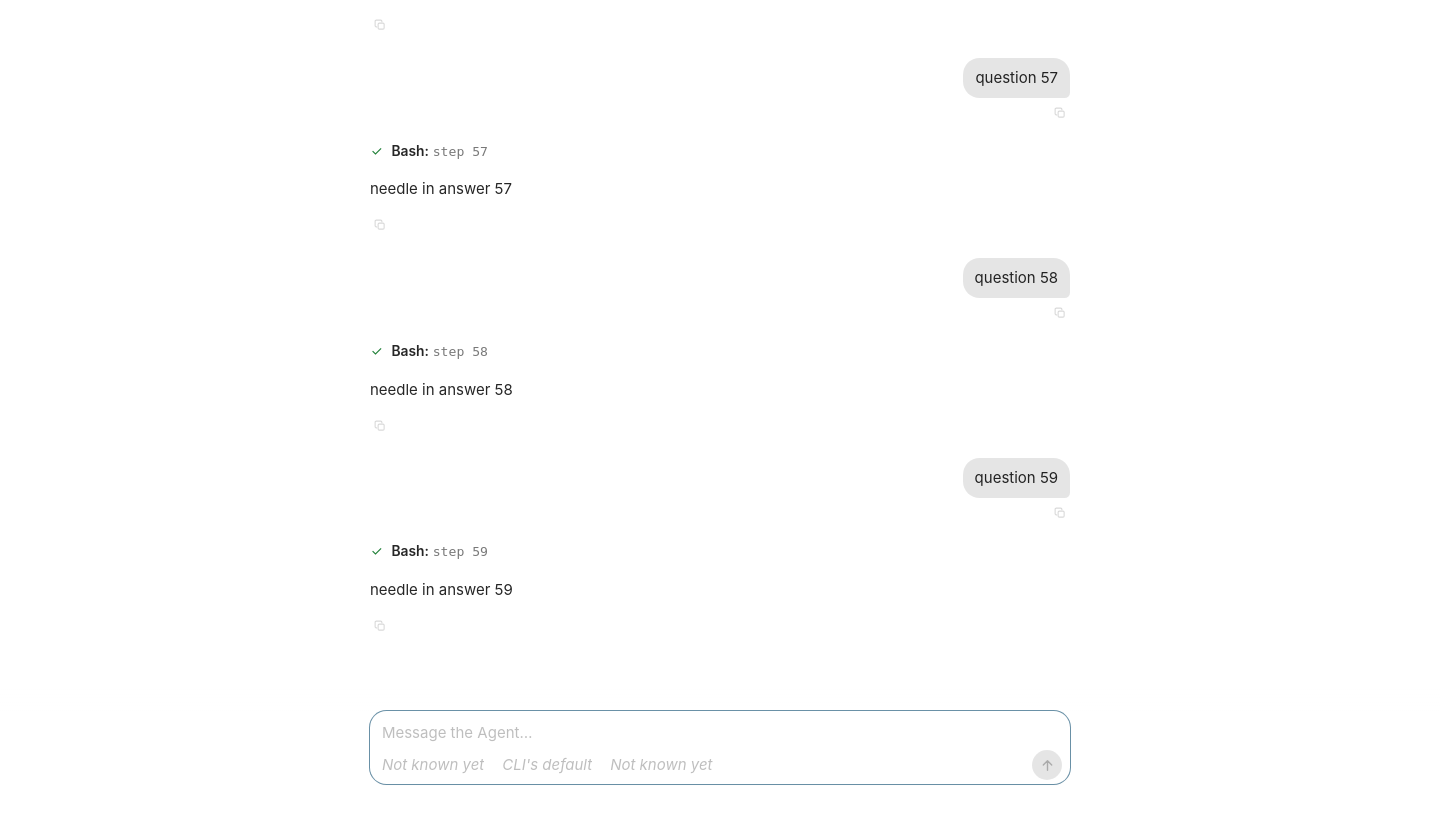
a long transcript, drawn in chunks › finds words in every chunk
The width and height of the screenshot is (1440, 822).
(page scrolled)
Press f in the text box labelled "Message the Agent…", box left=382, top=719, right=1062, bottom=746
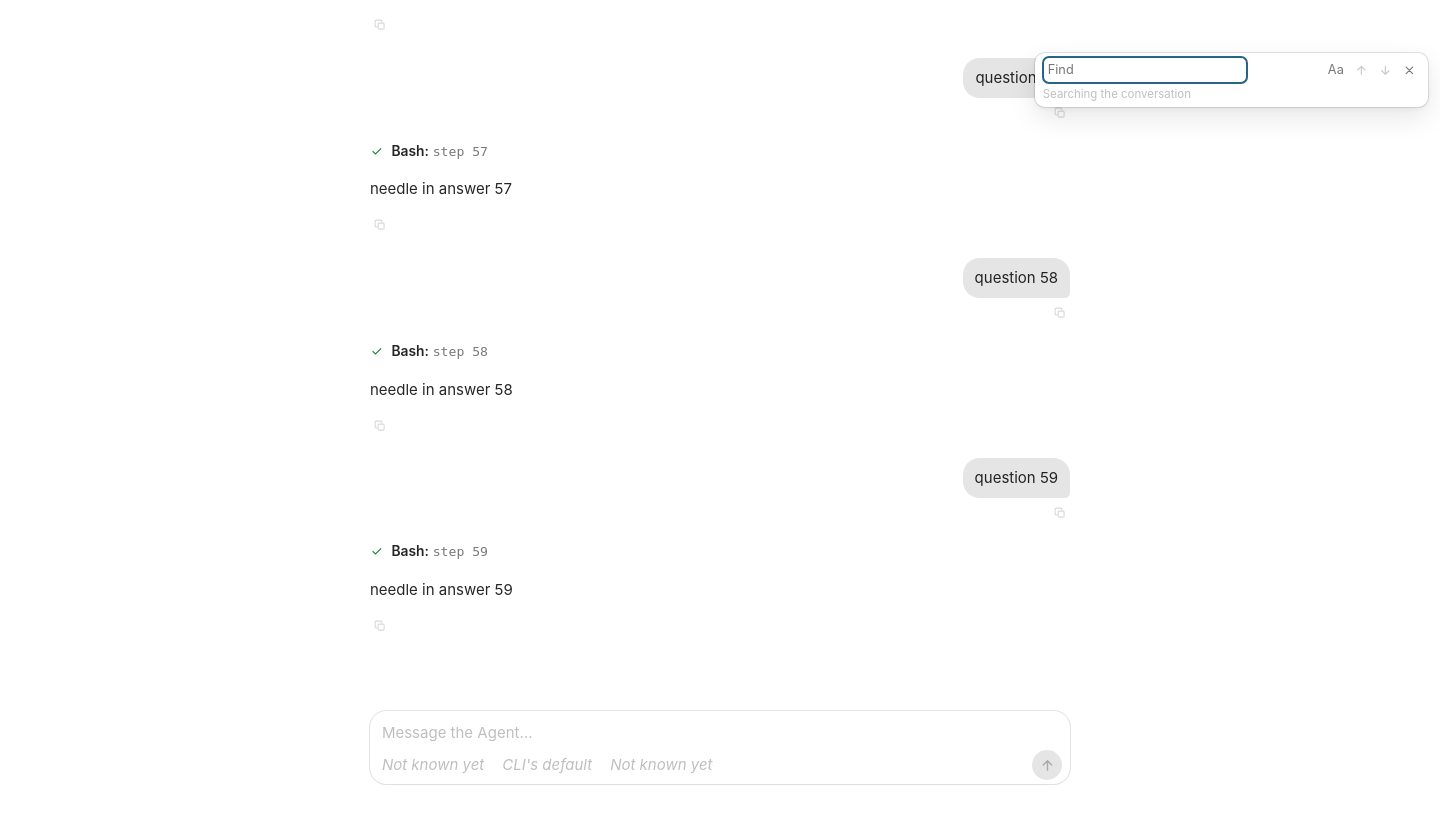
Type "needle" into the field labelled "Find". click: (1145, 70)
box: left=1043, top=57, right=1247, bottom=83
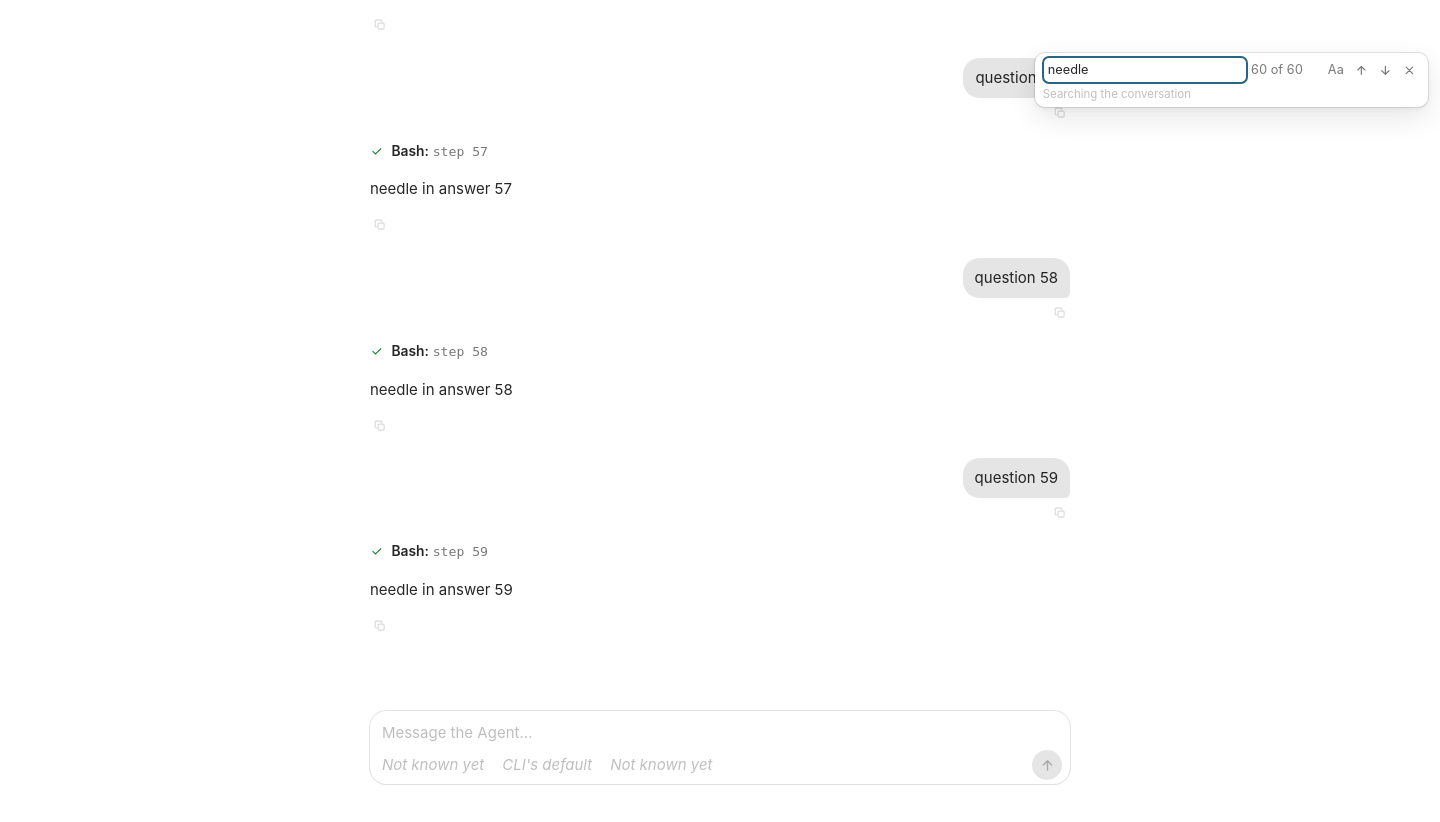
Now the text with class "conversation-find-count" reads "60 of 60", box left=1251, top=62, right=1303, bottom=77
